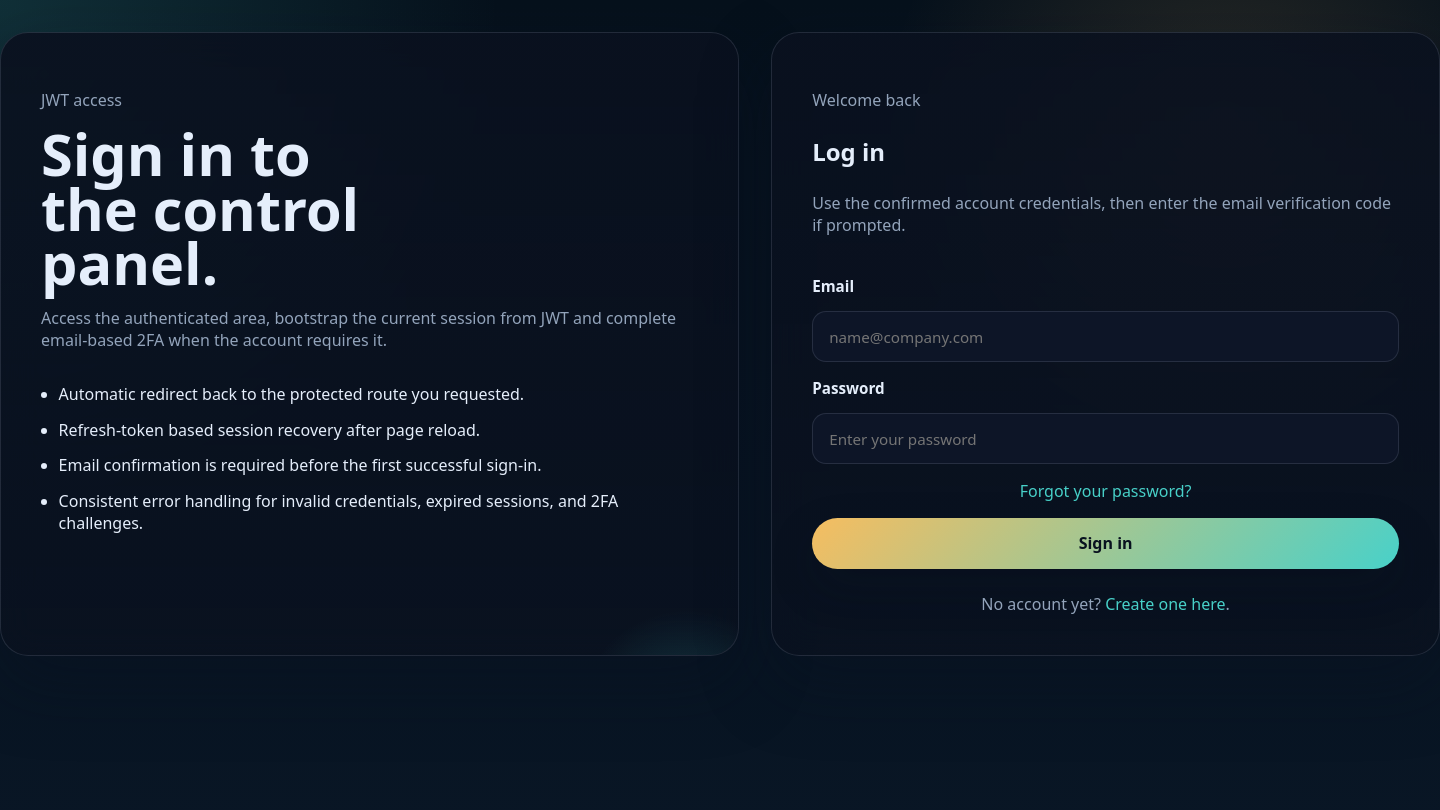
it: Login page › shows validation errors before submitting an invalid login form
Type "wrong-format" into the field labelled "Email" at [1106, 337], box [812,311,1399,362]
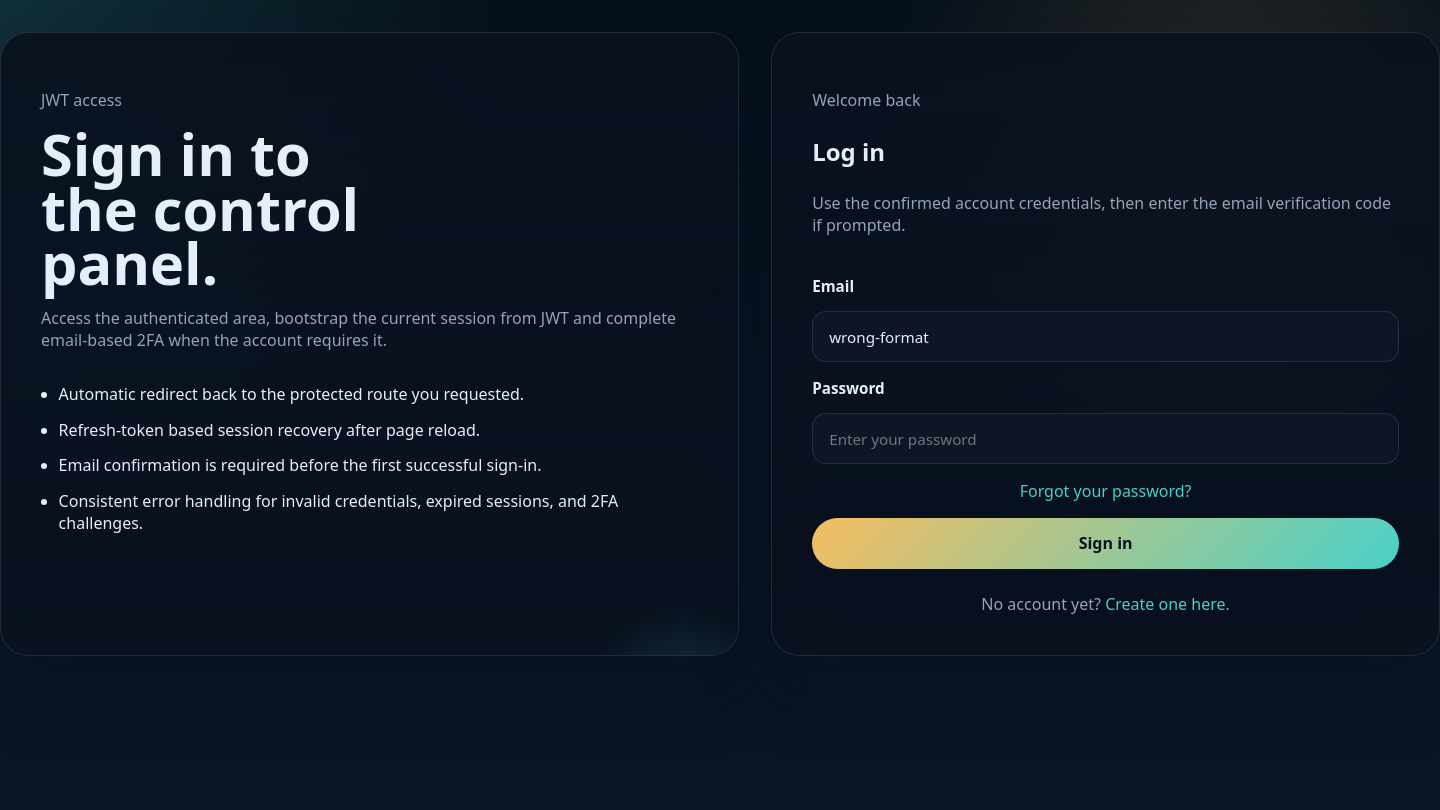
Type "123" into the password field labelled "Password" at [1106, 439], box [812,413,1399,464]
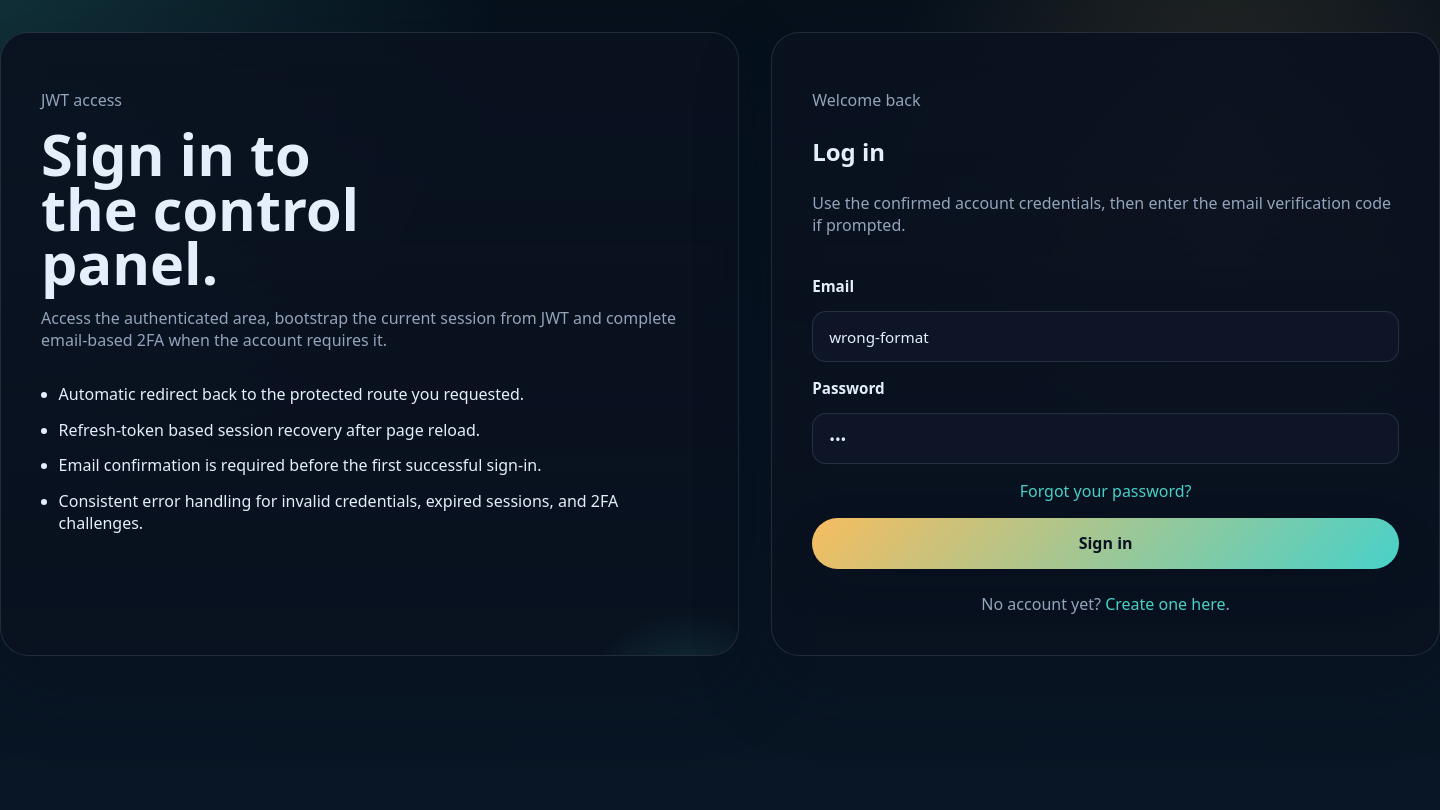
Click the button "Sign in" at [1106, 543], box [812,518,1399,569]
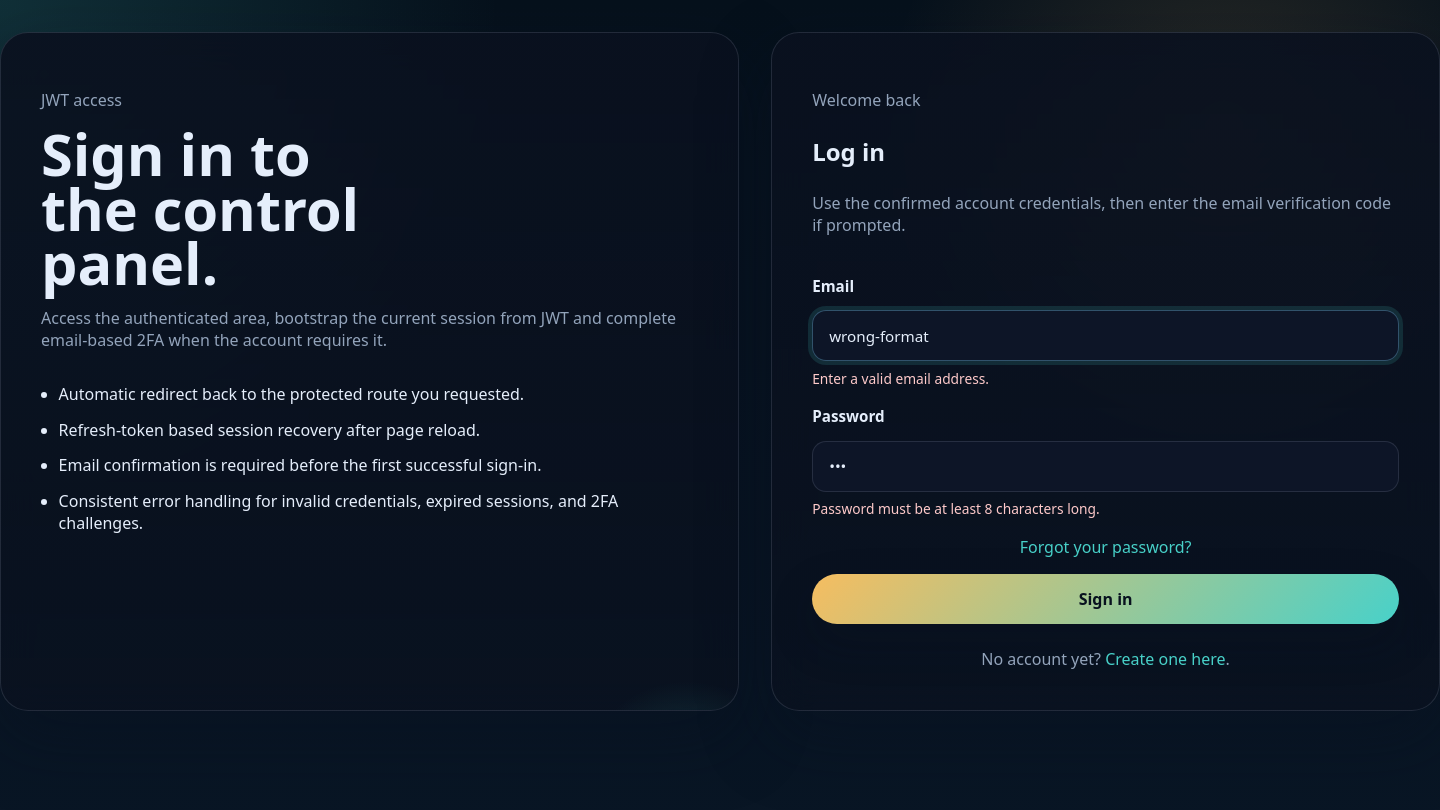
Now the text "Enter a valid email address." is shown, box [812,369,989,388]
Now the text "Password must be at least 8 characters long." is shown, box [812,499,1100,518]
